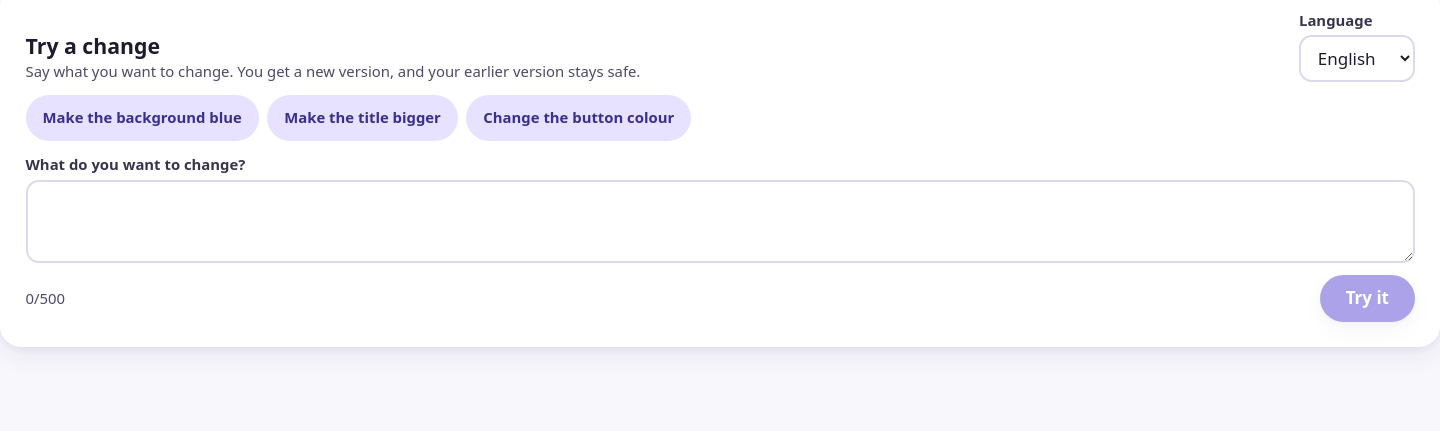
Test: ExperimentPanel › shows the server’s friendly text for limits, and a generic message for failures
This screenshot has width=1440, height=431.
Type "Make it blue" into the text box labelled "What do you want to change?" at (720, 221), box [26, 180, 1414, 263]
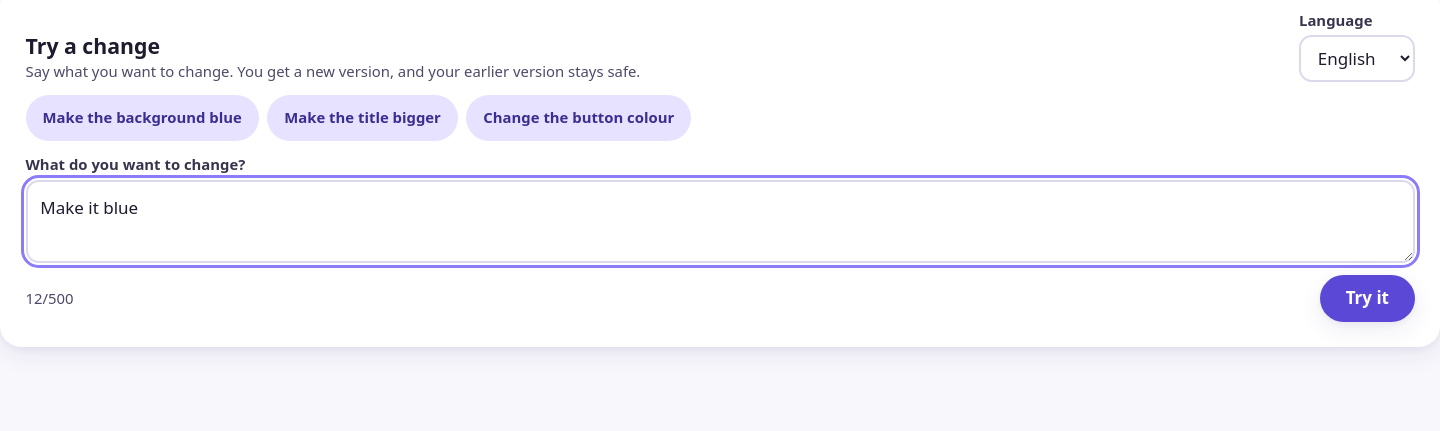
Click the button "Try it" at (1367, 298), box [1320, 275, 1414, 322]
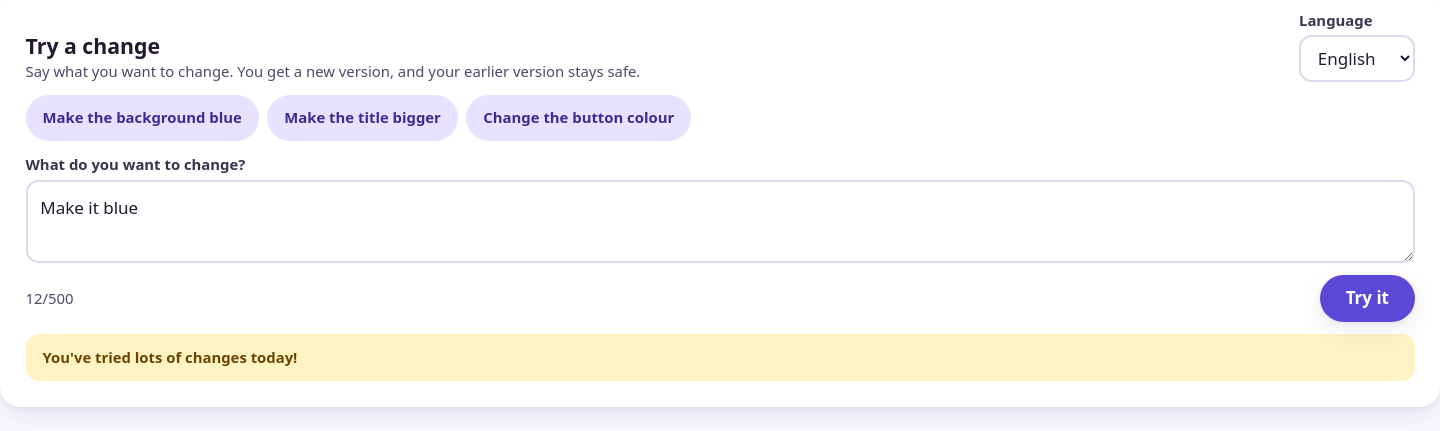
Result: the text "You've tried lots of changes today!" is shown at [26, 334, 1414, 381]
Click the button "Make the title bigger" at (363, 118), box [267, 94, 458, 141]
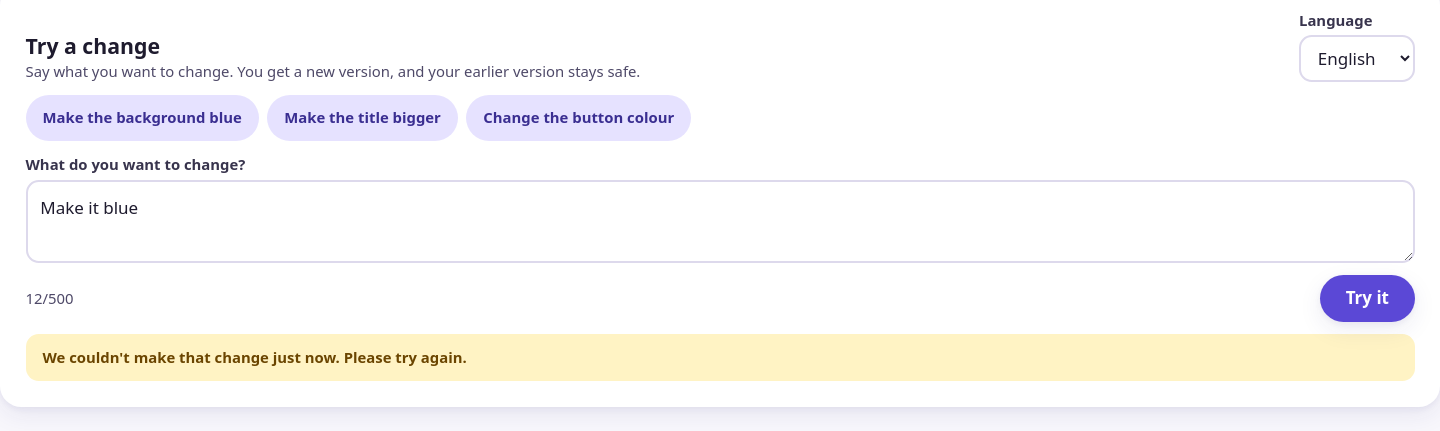
Result: the text "We couldn't make that change just now. Please try again." is shown at [26, 334, 1414, 381]
